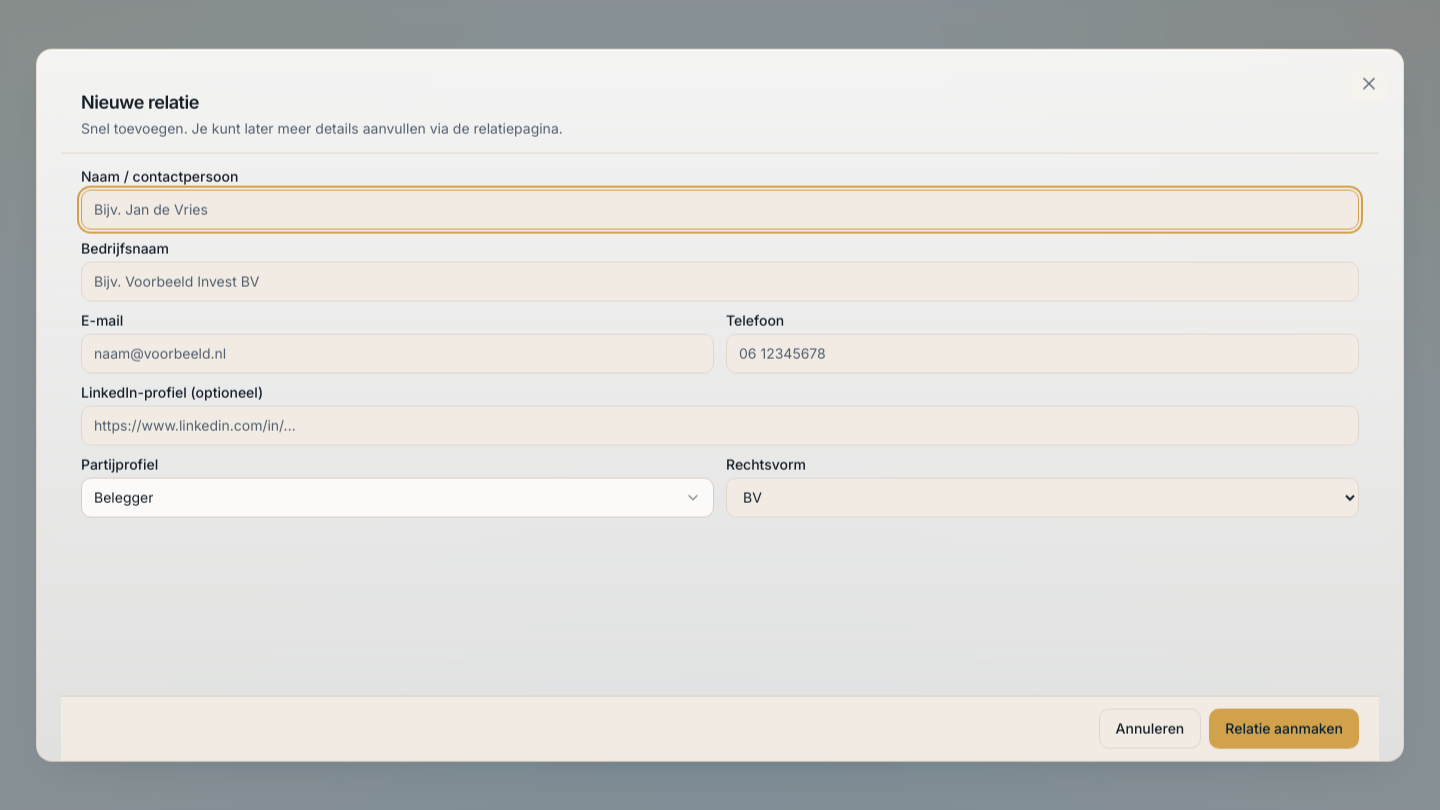
Scenario: QuickCreateRelationDialog › toont validatiefout bij volledig lege invoer
The width and height of the screenshot is (1440, 810).
What coordinates should you click on to do the following:
click the button "Relatie aanmaken"
I would click on:
 (1284, 728)
Its box is [1209,708,1359,748].
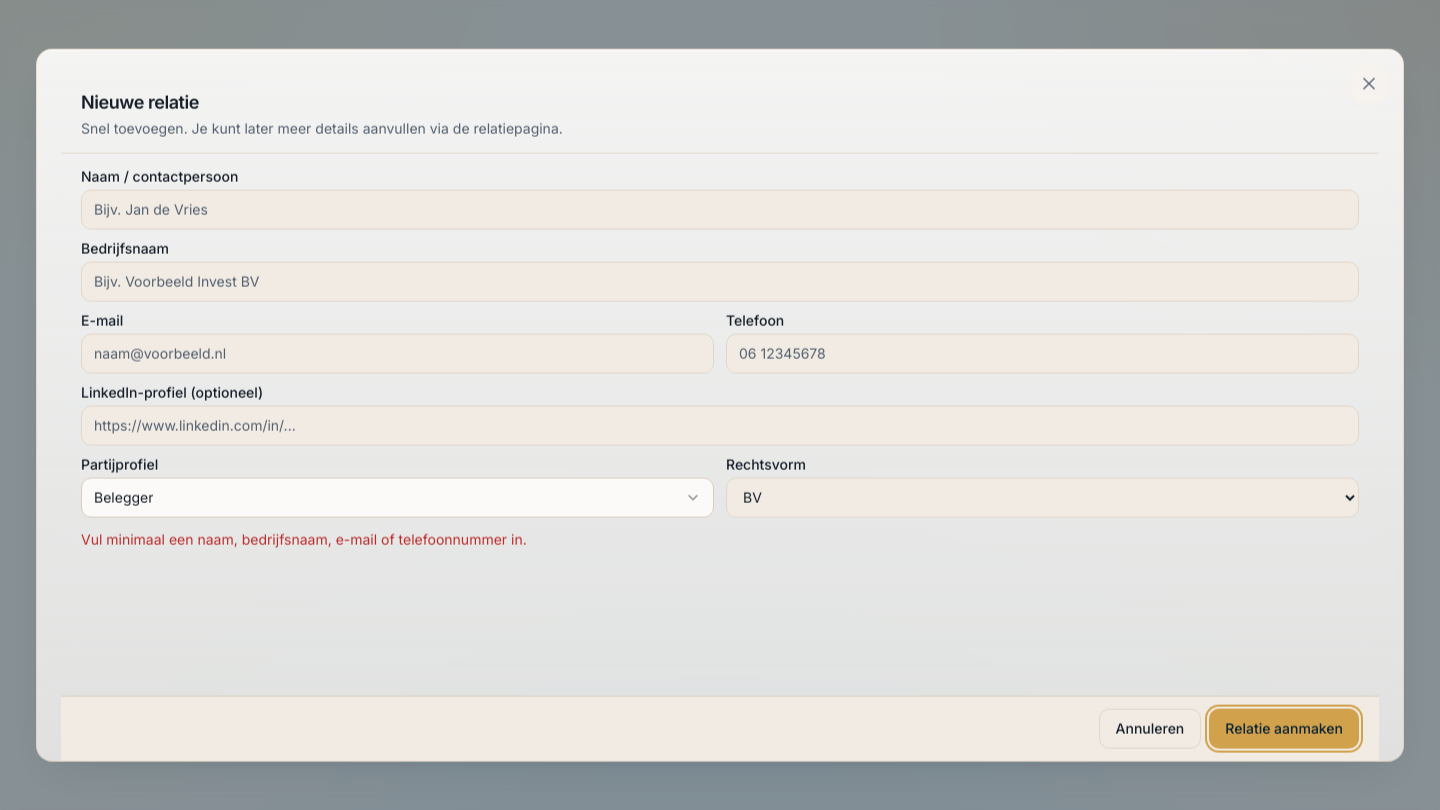
Check: the text "Vul minimaal een naam, bedrijfsnaam, e-mail of telefoonnummer in." is shown, box [81,530,527,547]
